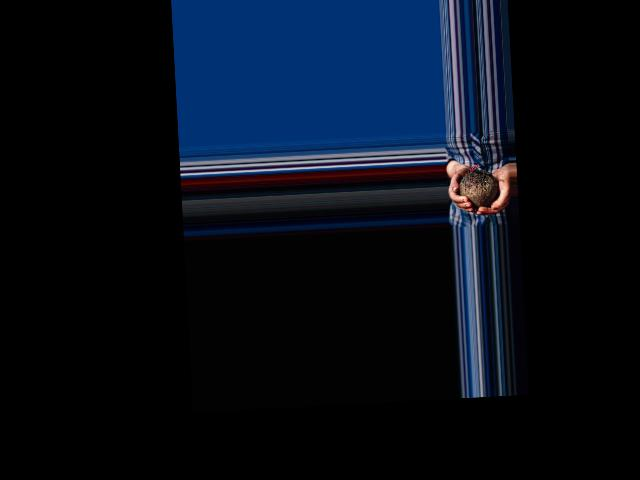beet: (458, 162, 499, 208)
